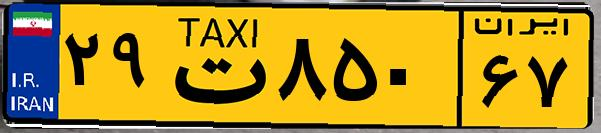0: (385, 28, 445, 110)
2: (57, 26, 110, 100)
5: (330, 28, 385, 110)
6: (475, 38, 525, 113)
7: (525, 38, 570, 115)
8: (270, 28, 330, 110)
9: (110, 28, 158, 98)
ت: (158, 12, 270, 120)
